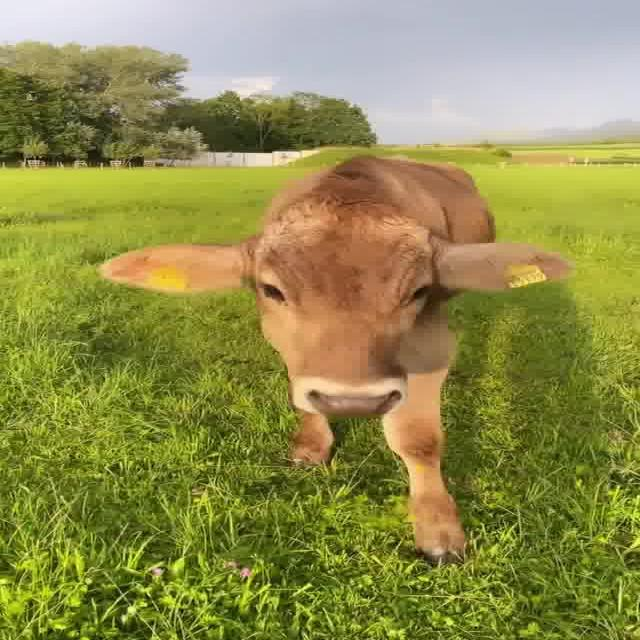cowFace: (102, 202, 601, 392)
